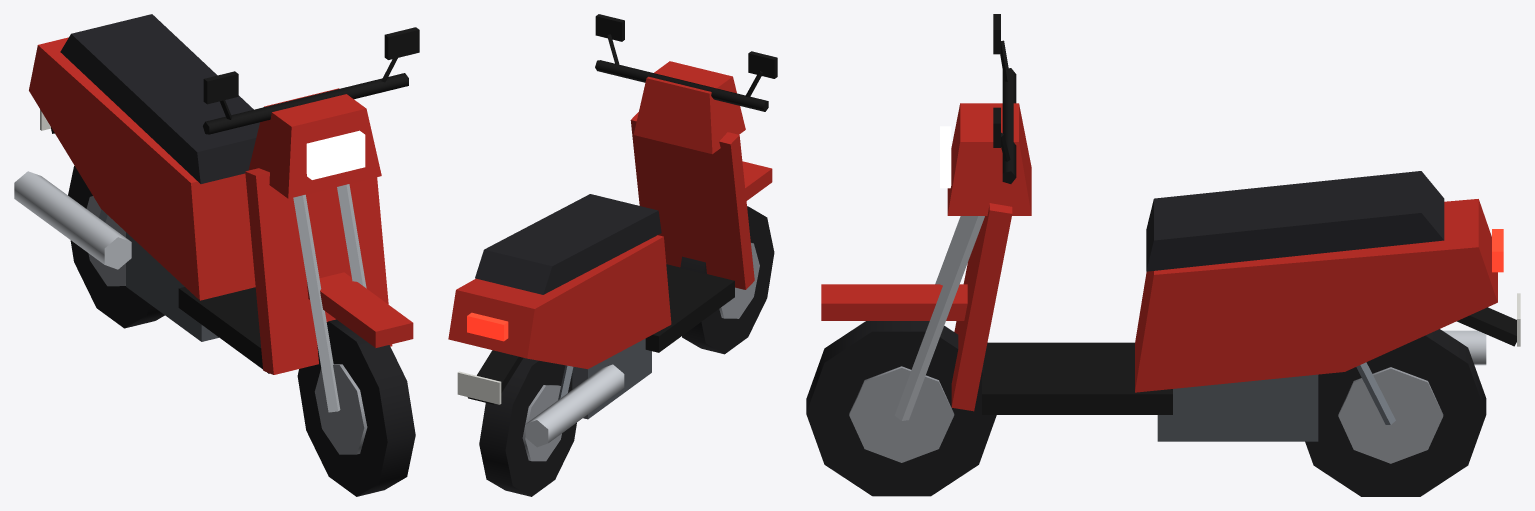
File: motor.glb
3 renders of one model, left to right at view 1: azimuth 30°, elevation 25°; view 2: azimuth 150°, elevation 25°; view 3: azimuth 270°, elevation 25°, orthographic. The views are drawn at different scales.
Parts seen in each view (by area): view 1: body, wheel_f, wheel_r; view 2: body, wheel_r, wheel_f; view 3: body, wheel_f, wheel_r.
Part boxes in pixels (x1,y1,x2,y2): body: [14, 14, 419, 412]; wheel_f: [297, 319, 415, 496]; wheel_r: [68, 166, 164, 328]; body: [448, 14, 777, 447]; wheel_r: [479, 358, 576, 496]; wheel_f: [680, 206, 774, 354]; body: [821, 14, 1520, 441]; wheel_f: [806, 321, 996, 496]; wheel_r: [1305, 329, 1486, 496].
Size of the model in its own units: 0.68 by 1.21 by 1.87.
